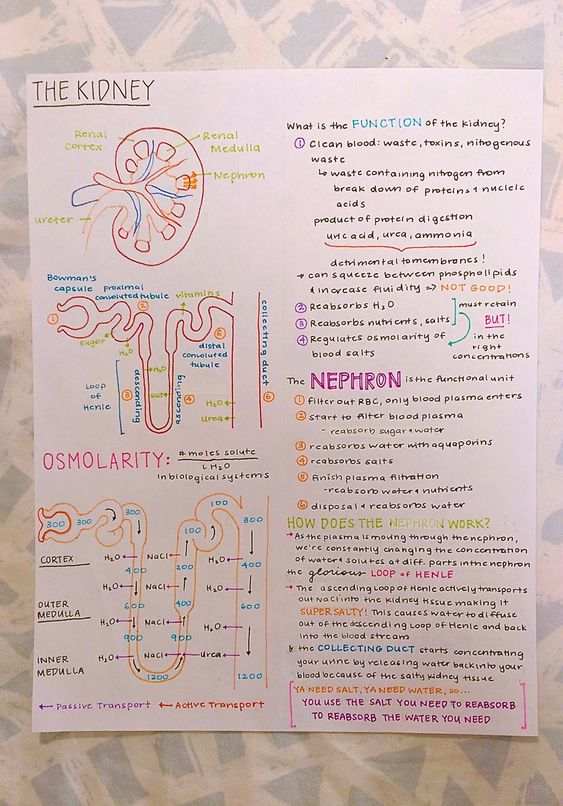page: (32, 72, 537, 728)
